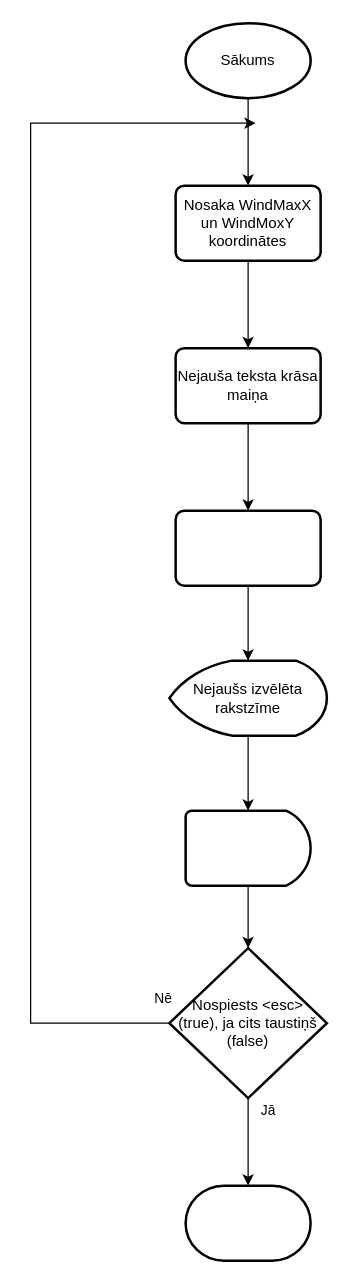
Some shapes in this 350 by 1283 pixel diagram are drawn without their labels. Here are the shapes that lost their labels. From the top down, the box of each, then its label:
(174, 509, 321, 586): Kursora pazušana
(184, 809, 311, 886): 0,3 sekundes
(184, 1184, 311, 1261): Beigas
